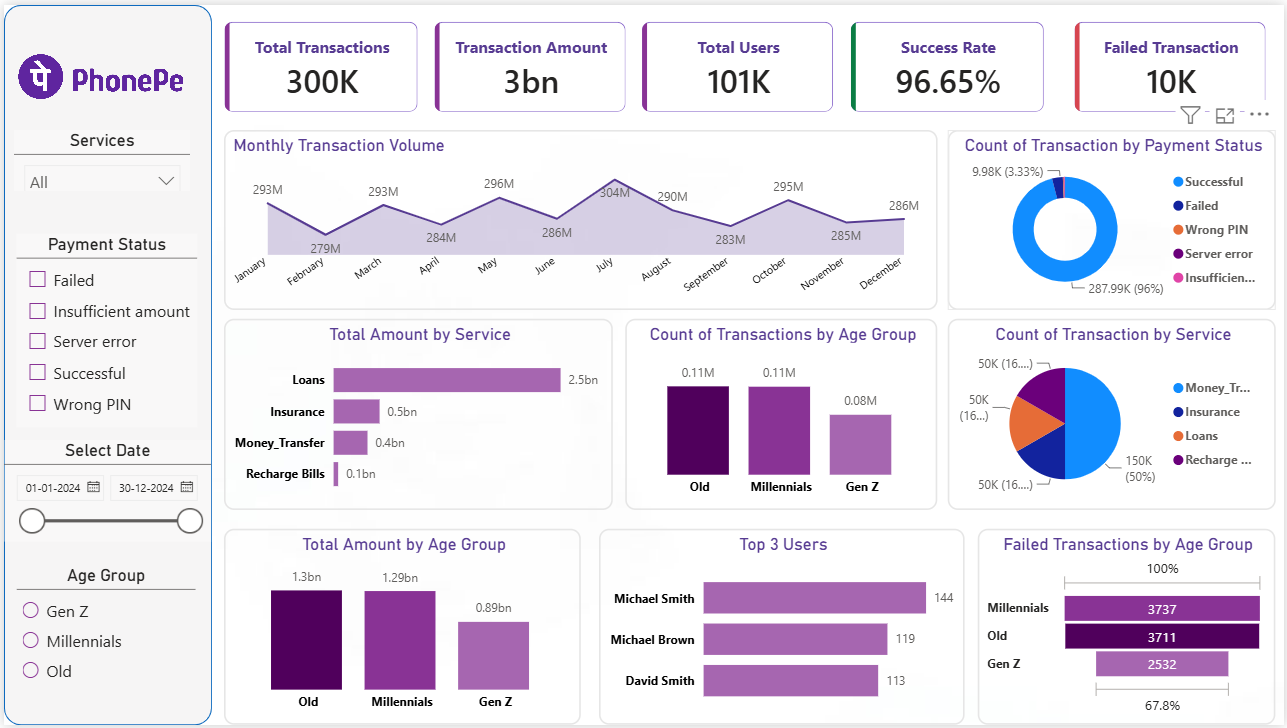

The dashboard page shown, as its layout file describes it:
{"tool":"powerbi","page":{"name":"Dashboard","canvas":[1280,720],"ordinal":1},"visuals":[{"type":"shape","box":[0,0,207.9,720.2],"z":0},{"type":"image","box":[0,0,193.2,143.1],"z":1000},{"type":"cardVisual","fields":{"Data":["cal.total_transactions"]},"box":[203.7,0,227.2,124.7],"z":2000},{"type":"cardVisual","fields":{"Data":["cal.failed_transaction"]},"box":[1054.3,0,225.9,124.7],"z":3000},{"type":"cardVisual","fields":{"Data":["cal.total_users"]},"box":[621,0,225.9,124.7],"z":4000},{"type":"cardVisual","fields":{"Data":["cal.total_transaction_amount"]},"box":[413.6,0,225.9,124.7],"z":5000},{"type":"cardVisual","fields":{"Data":["cal.Success Rate"]},"box":[829.6,0,227.2,124.7],"z":6000},{"type":"slicer","title":"Payment Status","fields":{"Values":["All_Transactions.Payment_Status"]},"box":[12.2,228.7,181,193.2],"z":7000},{"type":"listSlicer","fields":{"Values":["All_Users.Age_Group"]},"box":[12.3,560.5,179,149.4],"z":8000},{"type":"slicer","title":"Services","fields":{"Values":["All_Transactions.Service"]},"box":[9.8,124.7,176.1,61.1],"z":9000},{"type":"lineChart","title":"Monthly Transaction Volume","fields":{"Y":["Sum(All_Transactions.Amount)"],"Category":["All_Transactions.Date.Variation.Date Hierarchy.Month"]},"box":[219.8,124.7,713.6,180.2],"z":10000},{"type":"slicer","title":"Select Date","fields":{"Values":["All_Transactions.Date"]},"box":[0,434.6,207.4,101.2],"z":11000},{"type":"columnChart","title":"Total Amount by Age Group","fields":{"Category":["All_Users.Age_Group"],"Y":["Sum(All_Transactions.Amount)"]},"box":[219.8,523.5,356.8,196.3],"z":12000},{"type":"columnChart","title":"Count of Transactions by Age Group","fields":{"Category":["All_Users.Age_Group"],"Y":["CountNonNull(All_Transactions.Transaction_ID)"]},"box":[621,313.6,312.3,191.4],"z":13000},{"type":"donutChart","title":"Count of Transaction by Payment Status","fields":{"Category":["All_Transactions.Payment_Status"],"Y":["CountNonNull(All_Transactions.Transaction_ID)"]},"box":[943.2,124.7,328.4,180.2],"z":14000},{"type":"clusteredBarChart","title":"Top 3 Users","fields":{"Y":["CountNonNull(All_Transactions.Transaction_ID)"],"Category":["All_Users.Name"]},"box":[595.1,523.5,365.4,196.3],"z":15000},{"type":"barChart","title":"Total Amount by Service","fields":{"Category":["All_Transactions.Service"],"Y":["Sum(All_Transactions.Amount)"]},"box":[219.8,313.6,388.9,191.4],"z":16000},{"type":"pieChart","title":"Count of Transaction by Service","fields":{"Category":["All_Transactions.Service"],"Y":["CountNonNull(All_Transactions.Transaction_ID)"]},"box":[943.2,313.6,328.4,191.4],"z":17000},{"type":"funnel","title":"Failed Transactions by Age Group","fields":{"Y":["cal.failed_transaction"],"Category":["All_Users.Age_Group"]},"box":[974.1,523.5,297.5,196.3],"z":18000}]}

Visuals, with their boxes in screenshot pixels (x1, y1, x2, y2), scaled from the page's 1280x720 canvas onto the 1287x728 screenshot:
shape: locate(0, 0, 209, 727)
image: locate(0, 0, 194, 145)
cardVisual - cal.total_transactions: locate(205, 0, 433, 126)
cardVisual - cal.failed_transaction: locate(1060, 0, 1286, 126)
cardVisual - cal.total_users: locate(624, 0, 852, 126)
cardVisual - cal.total_transaction_amount: locate(416, 0, 643, 126)
cardVisual - cal.Success Rate: locate(834, 0, 1063, 126)
"Payment Status" slicer: locate(12, 231, 194, 427)
listSlicer - All_Users.Age_Group: locate(12, 567, 192, 718)
"Services" slicer: locate(10, 126, 187, 188)
"Monthly Transaction Volume" lineChart: locate(221, 126, 939, 308)
"Select Date" slicer: locate(0, 439, 209, 542)
"Total Amount by Age Group" columnChart: locate(221, 529, 580, 727)
"Count of Transactions by Age Group" columnChart: locate(624, 317, 938, 511)
"Count of Transaction by Payment Status" donutChart: locate(948, 126, 1279, 308)
"Top 3 Users" clusteredBarChart: locate(598, 529, 966, 727)
"Total Amount by Service" barChart: locate(221, 317, 612, 511)
"Count of Transaction by Service" pieChart: locate(948, 317, 1279, 511)
"Failed Transactions by Age Group" funnel: locate(979, 529, 1279, 727)
